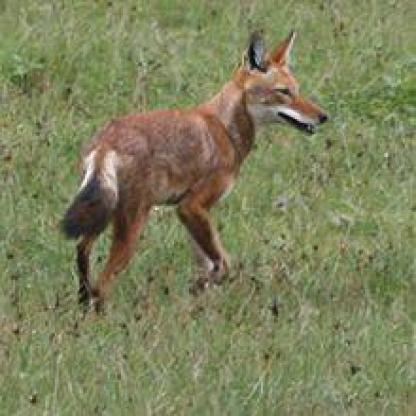dhole: (53, 19, 325, 312)
